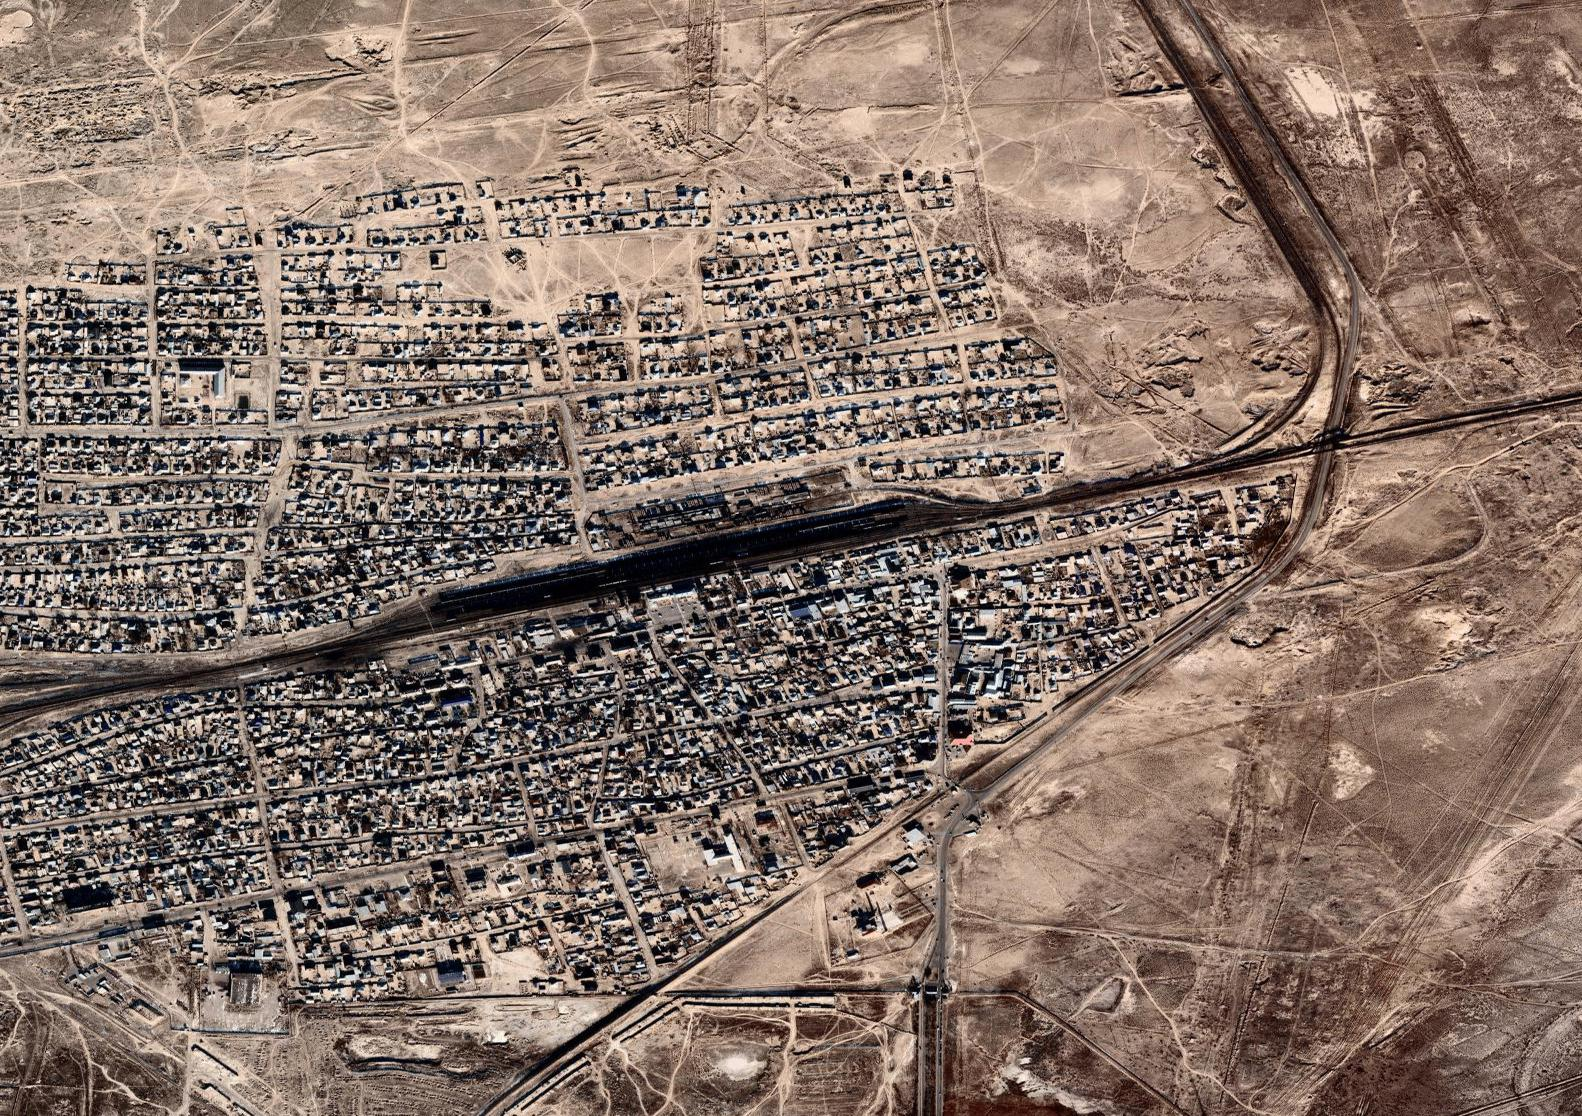train_station: (566, 482, 786, 599)
